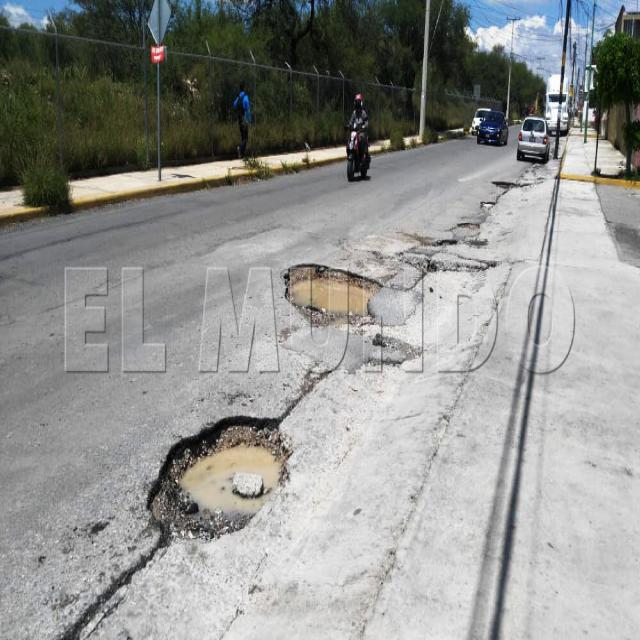Pothole: (262, 184, 472, 393), (127, 396, 301, 562)
